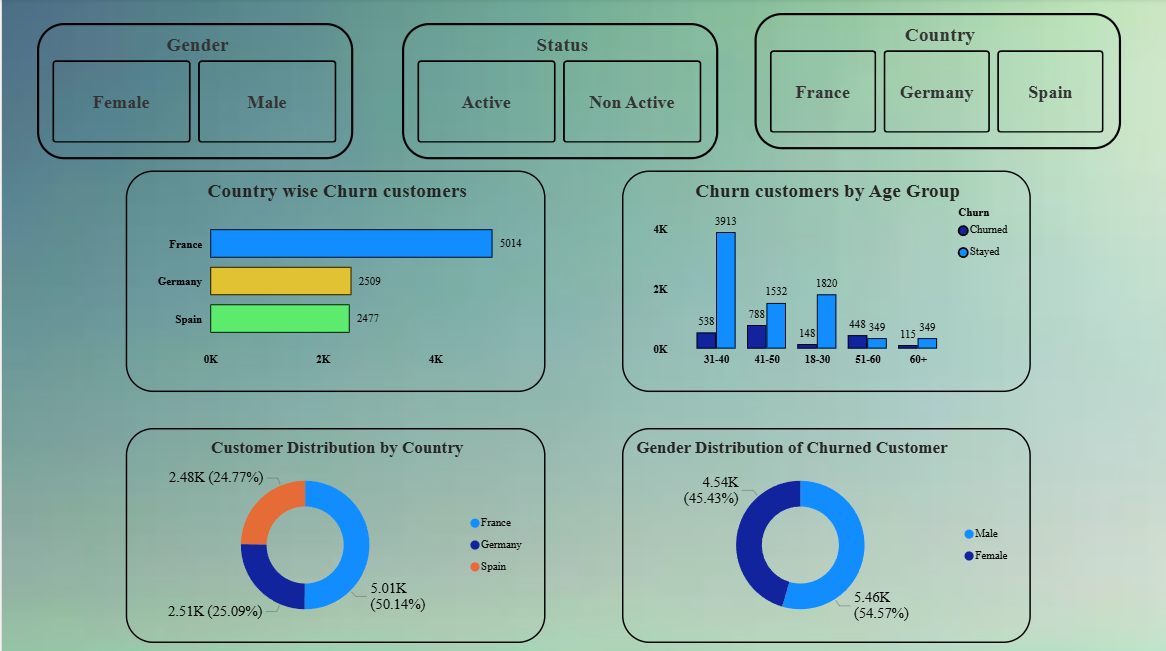

What the dashboard file says about the page in this screenshot:
{"tool":"powerbi","page":{"name":"Customer Demographics & Churn Analysis","canvas":[1280,720],"ordinal":1},"visuals":[{"type":"clusteredColumnChart","title":"Churn customers by Age Group ","fields":{"Category":["Bank Customer Churn Prediction.Age Group"],"Y":["CountNonNull(Bank Customer Churn Prediction.customer_id)"],"Series":["Bank Customer Churn Prediction.churn"]},"box":[680.5,189.9,448.6,243.3],"z":0},{"type":"advancedSlicerVisual","title":"Country","fields":{"Values":["Bank Customer Churn Prediction.country"]},"box":[825.7,17,402.4,149.8],"z":1000},{"type":"donutChart","title":"Gender Distribution of Churned Customer","fields":{"Category":["Bank Customer Churn Prediction.gender"],"Y":["CountNonNull(Bank Customer Churn Prediction.customer_id)"]},"box":[680.5,472.2,448.6,236.1],"z":2000},{"type":"advancedSlicerVisual","title":"Gender","fields":{"Values":["Bank Customer Churn Prediction.gender"]},"box":[37.9,28,347.5,149.8],"z":3000},{"type":"barChart","title":"Country wise Churn customers","fields":{"Category":["Bank Customer Churn Prediction.country"],"Y":["CountNonNull(Bank Customer Churn Prediction.customer_id)"]},"box":[136.2,189.7,461,243.2],"z":4000},{"type":"donutChart","title":"Customer Distribution by Country","fields":{"Y":["CountNonNull(Bank Customer Churn Prediction.customer_id)"],"Category":["Bank Customer Churn Prediction.country"]},"box":[136.5,472.2,460.9,236.1],"z":5000},{"type":"advancedSlicerVisual","title":"Status","fields":{"Values":["Bank Customer Churn Prediction.active_member"]},"box":[439.3,28,347.5,149.8],"z":6000}]}

Visuals, with their boxes in screenshot pixels (x1, y1, x2, y2), scaled from the page's 1280x720 canvas onto the 1166x651 screenshot:
"Churn customers by Age Group " clusteredColumnChart: l=620, t=172, r=1029, b=392
"Country" advancedSlicerVisual: l=752, t=15, r=1119, b=151
"Gender Distribution of Churned Customer" donutChart: l=620, t=427, r=1029, b=640
"Gender" advancedSlicerVisual: l=35, t=25, r=351, b=161
"Country wise Churn customers" barChart: l=124, t=172, r=544, b=391
"Customer Distribution by Country" donutChart: l=124, t=427, r=544, b=640
"Status" advancedSlicerVisual: l=400, t=25, r=717, b=161
